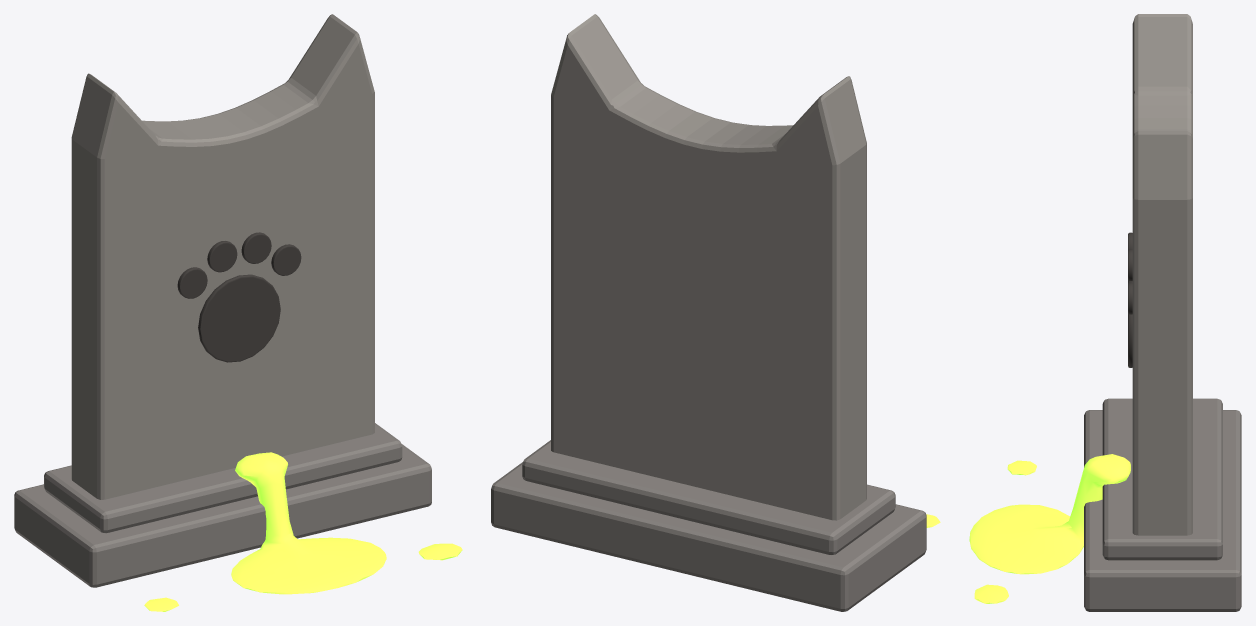
The model's file is zc_tombstone_cat.mobile-mid.glb.
3 views of the same model, side by side, from view 1: azimuth 30°, elevation 25°; view 2: azimuth 150°, elevation 25°; view 3: azimuth 270°, elevation 25° (orthographic). The views are drawn at different scales.
Parts seen in each view (by area): view 1: zc_tombstone_cat, blob1; view 2: zc_tombstone_cat; view 3: zc_tombstone_cat, blob1.
Part boxes in pixels (<box>): zc_tombstone_cat: <box>14,14,431,587</box>; blob1: <box>144,452,462,611</box>; zc_tombstone_cat: <box>491,14,926,611</box>; zc_tombstone_cat: <box>1084,14,1241,611</box>; blob1: <box>969,454,1130,603</box>.
Bounding box in the file's own units: 0.84 × 1.11 × 0.5876.
Materials: 1 (1 with a texture image).
